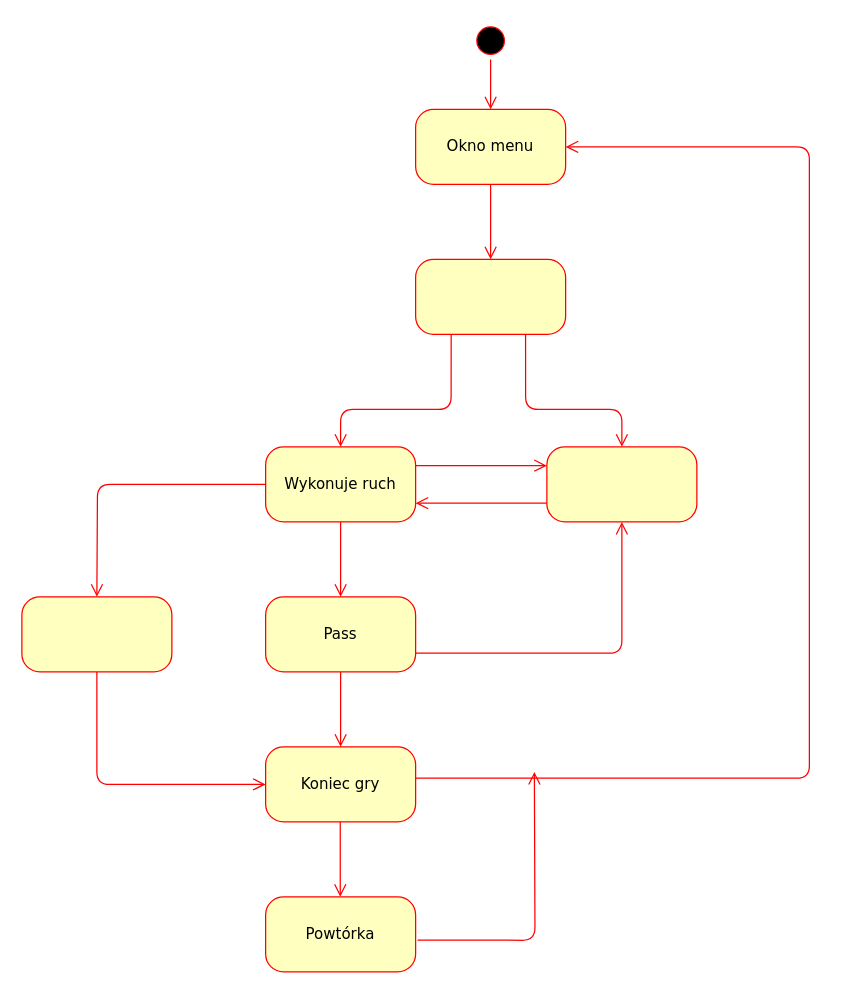
The diagram is 844 pixels wide and 994 high, and some of its shapes have lost their labels. The shapes that lost their labels are listed below. From the top down, each one's box as (x1, y1, x2, y2) in pixels, then its label:
(414, 258, 566, 334): Gra
(546, 446, 697, 522): Oczekuje na ruch
(21, 596, 172, 672): Poddanie
